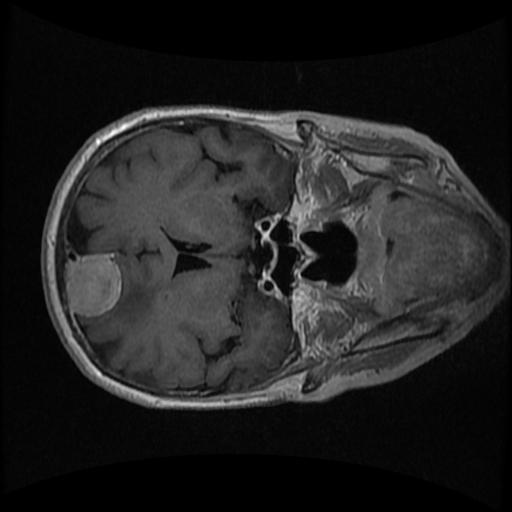meningioma: (67, 255, 118, 315)
